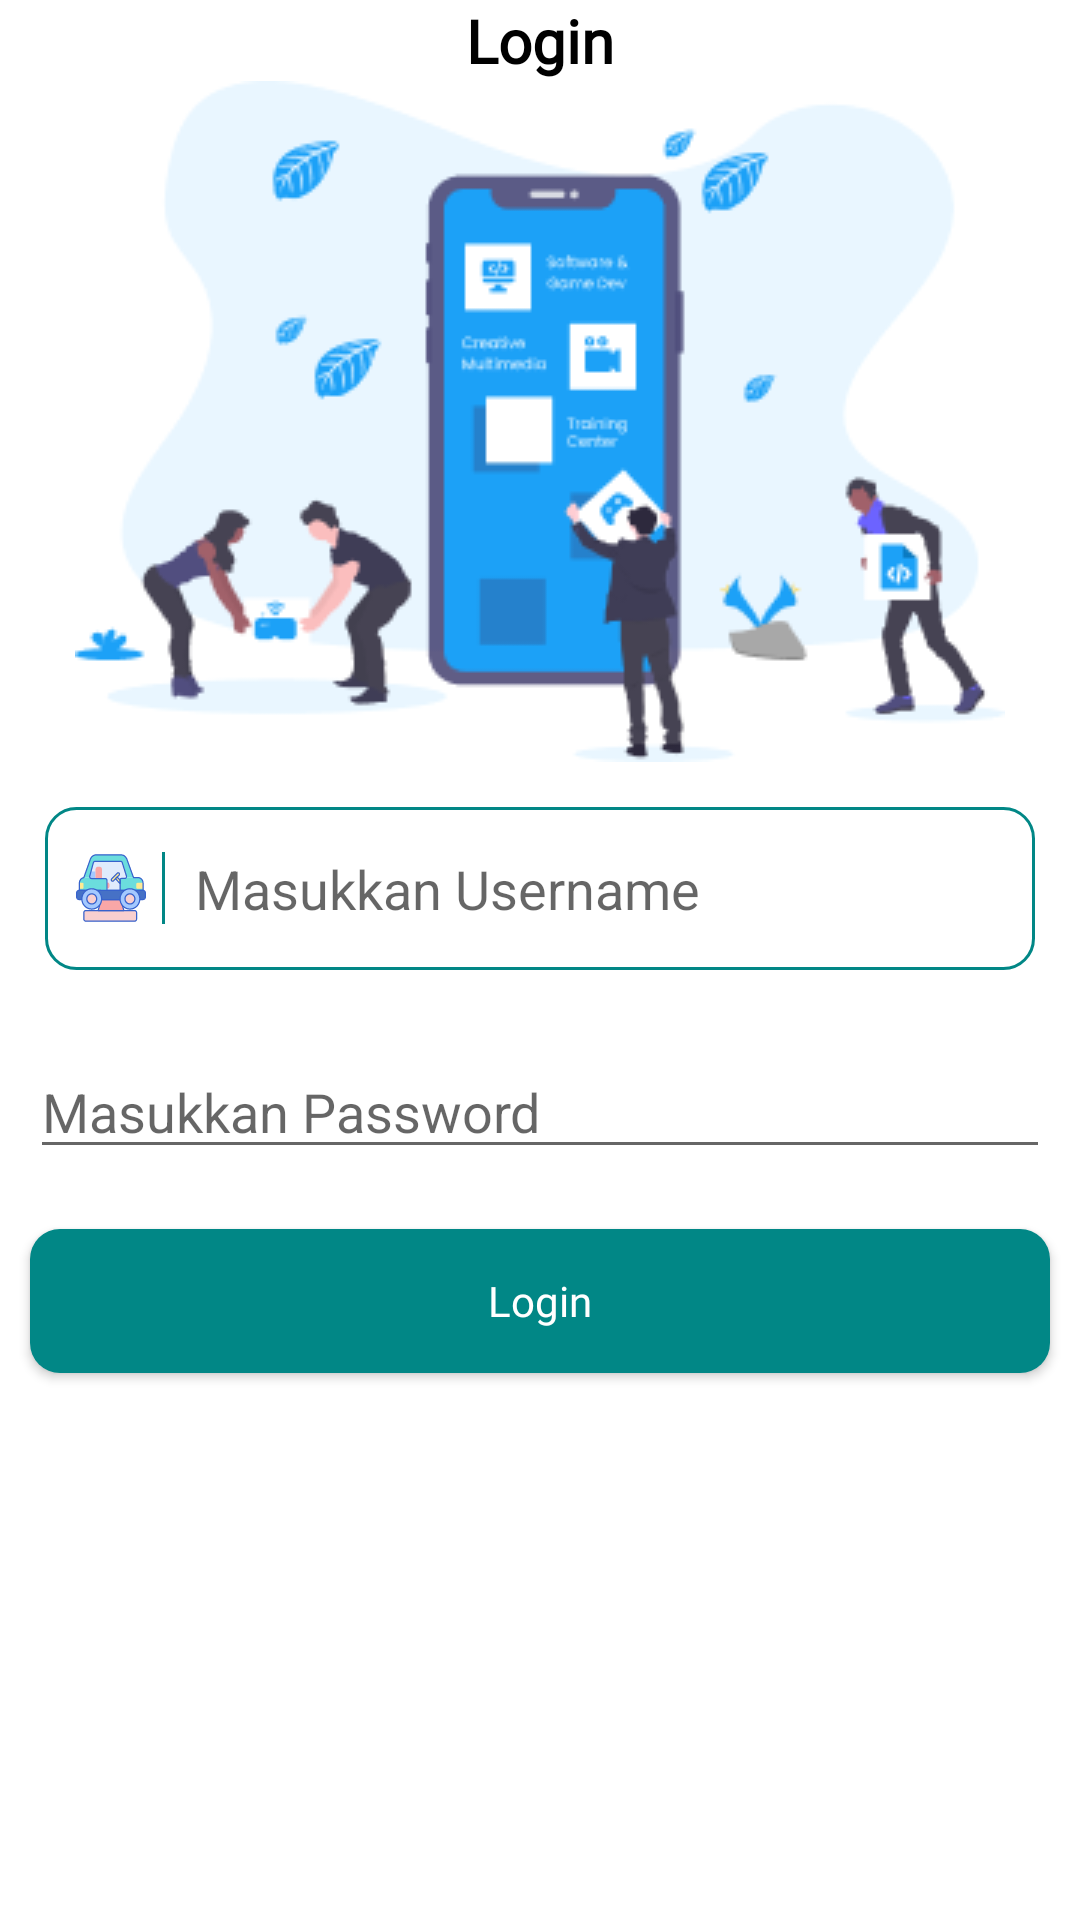

Screen size 1080w x 1920h. Icon name, then its center in pixels as (x,y):
kiddie: (111,888)
